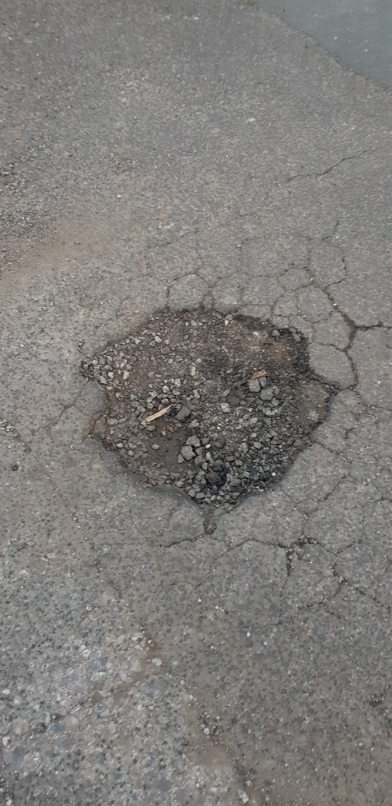pothole: (69, 295, 345, 536)
